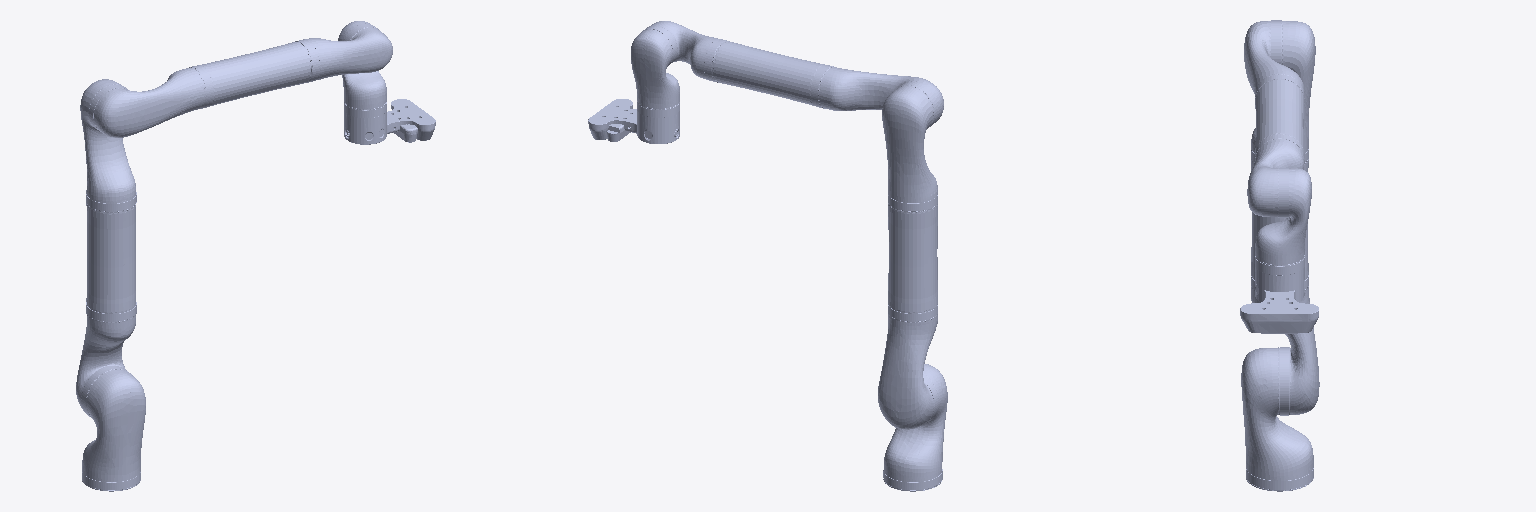
robot.urdf — tcb605lv:
<?xml version="1.0" encoding="utf-8"?>
<!-- This URDF was automatically created by SolidWorks to URDF Exporter! Originally created by Stephen Brawner (brawner@gmail.com) 
     Commit Version: 1.6.0-4-g7f85cfe  Build Version: 1.6.7995.38578
     For more information, please see http://wiki.ros.org/sw_urdf_exporter -->
<robot
  name="tcb605lv">
  <mujoco>
    <compiler
      meshdir="../meshes/"
      discardvisual="false"
    />
  </mujoco>
  <link
    name="link0">
    <inertial>
      <origin
        xyz="-0.00203916786698491 0.000208461233542917 0.0437970464318419"
        rpy="0 0 0" />
      <mass
        value="0.230943297728628" />
      <inertia
        ixx="0.000578857931988569"
        ixy="2.49644295159147E-06"
        ixz="-3.6276199422181E-06"
        iyy="0.000597326060992739"
        iyz="8.87603974516229E-07"
        izz="0.0006302688154674" />
    </inertial>
    <visual>
      <origin
        xyz="0 0 0"
        rpy="0 0 0" />
      <geometry>
        <mesh
          filename="package://tl_description/meshes/tcb605lv/link0.STL" />
      </geometry>
      <material
        name="">
        <color
          rgba="0.792156862745098 0.819607843137255 0.933333333333333 1" />
      </material>
    </visual>
    <collision>
      <origin
        xyz="0 0 0"
        rpy="0 0 0" />
      <geometry>
        <mesh
          filename="package://tl_description/meshes/tcb605lv/link0.STL" />
      </geometry>
    </collision>
  </link>
  <link
    name="link1">
    <inertial>
      <origin
        xyz="-2.82592835967246E-06 -0.0149440554612562 0.0760738628611228"
        rpy="0 0 0" />
      <mass
        value="0.188795049535535" />
      <inertia
        ixx="0.000644330974536614"
        ixy="5.5580416846699E-08"
        ixz="-5.40921744938001E-08"
        iyy="0.000669839544820847"
        iyz="0.000101917330586459"
        izz="0.000292784373513458" />
    </inertial>
    <visual>
      <origin
        xyz="0 0 0"
        rpy="0 0 0" />
      <geometry>
        <mesh
          filename="package://tl_description/meshes/tcb605lv/link1.STL" />
      </geometry>
      <material
        name="">
        <color
          rgba="0.792156862745098 0.819607843137255 0.933333333333333 1" />
      </material>
    </visual>
    <collision>
      <origin
        xyz="0 0 0"
        rpy="0 0 0" />
      <geometry>
        <mesh
          filename="package://tl_description/meshes/tcb605lv/link1.STL" />
      </geometry>
    </collision>
  </link>
  <joint
    name="joint1"
    type="revolute">
    <origin
      xyz="0 0 0.12215"
      rpy="0 0 0" />
    <parent
      link="link0" />
    <child
      link="link1" />
    <axis
      xyz="0 0 1" />
    <limit
      lower="-3.1226"
      upper="3.1226"
      effort="0"
      velocity="0" />
  </joint>
  <link
    name="link2">
    <inertial>
      <origin
        xyz="-1.94339017576278E-06 0.253141084131434 -0.00221954159481741"
        rpy="0 0 0" />
      <mass
        value="0.697362175861507" />
      <inertia
        ixx="0.0148340159046899"
        ixy="-5.08235530092336E-07"
        ixz="3.15104179556881E-08"
        iyy="0.000910925446251546"
        iyz="-0.000125255790475071"
        izz="0.0148212951328787" />
    </inertial>
    <visual>
      <origin
        xyz="0 0 0"
        rpy="0 0 0" />
      <geometry>
        <mesh
          filename="package://tl_description/meshes/tcb605lv/link2.STL" />
      </geometry>
      <material
        name="">
        <color
          rgba="0.792156862745098 0.819607843137255 0.933333333333333 1" />
      </material>
    </visual>
    <collision>
      <origin
        xyz="0 0 0"
        rpy="0 0 0" />
      <geometry>
        <mesh
          filename="package://tl_description/meshes/tcb605lv/link2.STL" />
      </geometry>
    </collision>
  </link>
  <joint
    name="joint2"
    type="revolute">
    <origin
      xyz="0 0.00665 0.14085"
      rpy="1.5708 0 0" />
    <parent
      link="link1" />
    <child
      link="link2" />
    <axis
      xyz="0 0 1" />
    <limit
      lower="-2.3562"
      upper="2.3562"
      effort="0"
      velocity="0" />
  </joint>
  <link
    name="link3">
    <inertial>
      <origin
        xyz="-4.72301629694805E-07 -0.190684771351565 0.00158653308007766"
        rpy="0 0 0" />
      <mass
        value="0.422517247895088" />
      <inertia
        ixx="0.00489098844498322"
        ixy="9.21912965391628E-08"
        ixz="-2.34885177144892E-09"
        iyy="0.000427800513977296"
        iyz="-0.000428033810758325"
        izz="0.00487247156937646" />
    </inertial>
    <visual>
      <origin
        xyz="0 0 0"
        rpy="0 0 0" />
      <geometry>
        <mesh
          filename="package://tl_description/meshes/tcb605lv/link3.STL" />
      </geometry>
      <material
        name="">
        <color
          rgba="0.792156862745098 0.819607843137255 0.933333333333333 1" />
      </material>
    </visual>
    <collision>
      <origin
        xyz="0 0 0"
        rpy="0 0 0" />
      <geometry>
        <mesh
          filename="package://tl_description/meshes/tcb605lv/link3.STL" />
      </geometry>
    </collision>
  </link>
  <joint
    name="joint3"
    type="revolute">
    <origin
      xyz="0 0.5195 0.0118"
      rpy="0 0 1.5708" />
    <parent
      link="link2" />
    <child
      link="link3" />
    <axis
      xyz="0 0 1" />
    <limit
      lower="-0.9520"
      upper="4.0666"
      effort="0"
      velocity="0" />
  </joint>
  <link
    name="link4">
    <inertial>
      <origin
        xyz="-5.09041704832569E-06 0.0131445030382286 0.06267452222222"
        rpy="0 0 0" />
      <mass
        value="0.0899815381835029" />
      <inertia
        ixx="0.000204808170493513"
        ixy="1.15809288352626E-08"
        ixz="4.0698625874143E-08"
        iyy="0.000207969515719354"
        iyz="-3.60476541258041E-05"
        izz="7.751883986058E-05" />
    </inertial>
    <visual>
      <origin
        xyz="0 0 0"
        rpy="0 0 0" />
      <geometry>
        <mesh
          filename="package://tl_description/meshes/tcb605lv/link4.STL" />
      </geometry>
      <material
        name="">
        <color
          rgba="0.792156862745098 0.819607843137255 0.933333333333333 1" />
      </material>
    </visual>
    <collision>
      <origin
        xyz="0 0 0"
        rpy="0 0 0" />
      <geometry>
        <mesh
          filename="package://tl_description/meshes/tcb605lv/link4.STL" />
      </geometry>
    </collision>
  </link>
  <joint
    name="joint4"
    type="revolute">
    <origin
      xyz="0 -0.36715 -0.00515"
      rpy="1.5708 0 0" />
    <parent
      link="link3" />
    <child
      link="link4" />
    <axis
      xyz="0 0 1" />
    <limit
      lower="-3.1226"
      upper="3.1226"
      effort="0"
      velocity="0" />
  </joint>
  <link
    name="link5">
    <inertial>
      <origin
        xyz="-0.039870713515424 1.29640334527448E-05 0.00873817260996291"
        rpy="0 0 0" />
      <mass
        value="0.0915267307351733" />
      <inertia
        ixx="8.0713088798166E-05"
        ixy="-3.62293548585109E-08"
        ixz="-3.1588735111645E-05"
        iyy="0.000167006031062903"
        iyz="-1.27090288820104E-08"
        izz="0.000170834795985533" />
    </inertial>
    <visual>
      <origin
        xyz="0 0 0"
        rpy="0 0 0" />
      <geometry>
        <mesh
          filename="package://tl_description/meshes/tcb605lv/link5.STL" />
      </geometry>
      <material
        name="">
        <color
          rgba="0.792156862745098 0.819607843137255 0.933333333333333 1" />
      </material>
    </visual>
    <collision>
      <origin
        xyz="0 0 0"
        rpy="0 0 0" />
      <geometry>
        <mesh
          filename="package://tl_description/meshes/tcb605lv/link5.STL" />
      </geometry>
    </collision>
  </link>
  <joint
    name="joint5"
    type="revolute">
    <origin
      xyz="0 -0.00615 0.11335"
      rpy="1.5708 0 0" />
    <parent
      link="link4" />
    <child
      link="link5" />
    <axis
      xyz="0 0 1" />
    <limit
      lower="-3.8921"
      upper="0.7505"
      effort="0"
      velocity="0" />
  </joint>
  <link
    name="link6">
    <inertial>
      <origin
        xyz="0.0456847640482927 -8.93653981464731E-05 -0.013851734676169"
        rpy="0 0 0" />
      <mass
        value="0.172279547491106" />
      <inertia
        ixx="0.000136996299151724"
        ixy="2.46315851520808E-06"
        ixz="-6.06548296718063E-05"
        iyy="0.000398400904894817"
        iyz="1.44296727106075E-07"
        izz="0.000453491802678393" />
    </inertial>
    <visual>
      <origin
        xyz="0 0 0"
        rpy="0 0 0" />
      <geometry>
        <mesh
          filename="package://tl_description/meshes/tcb605lv/link6.STL" />
      </geometry>
      <material
        name="">
        <color
          rgba="0.792156862745098 0.819607843137255 0.933333333333333 1" />
      </material>
    </visual>
    <collision>
      <origin
        xyz="0 0 0"
        rpy="0 0 0" />
      <geometry>
        <mesh
          filename="package://tl_description/meshes/tcb605lv/link6.STL" />
      </geometry>
    </collision>
  </link>
  <joint
    name="joint6"
    type="revolute">
    <origin
      xyz="-0.1615 0 -0.006025"
      rpy="-1.5708 -0.0013814 1.5708" />
    <parent
      link="link5" />
    <child
      link="link6" />
    <axis
      xyz="0 0 1" />
    <limit
      lower="-3.1226"
      upper="3.1226"
      effort="0"
      velocity="0" />
  </joint>
  <link
    name="camera_link">
    <inertial>
      <origin
        xyz="0.00587064733882436 0.00117311941810132 0.0124843774752632"
        rpy="0 0 0" />
      <mass
        value="0.0471700197811821" />
      <inertia
        ixx="2.87281832110709E-05"
        ixy="4.20817635729171E-07"
        ixz="-4.33349077164788E-09"
        iyy="4.39204771944353E-06"
        iyz="-5.78221440988259E-10"
        izz="2.89731881794558E-05" />
    </inertial>
    <visual>
      <origin
        xyz="0 0 0"
        rpy="0 0 0" />
      <geometry>
        <mesh
          filename="package://tl_description/meshes/tcb605lv/camera_link.STL" />
      </geometry>
      <material
        name="">
        <color
          rgba="0.792156862745098 0.819607843137255 0.933333333333333 1" />
      </material>
    </visual>
    <collision>
      <origin
        xyz="0 0 0"
        rpy="0 0 0" />
      <geometry>
        <mesh
          filename="package://tl_description/meshes/tcb605lv/camera_link.STL" />
      </geometry>
    </collision>
  </link>
  <joint
    name="camera_joint"
    type="fixed">
    <origin
      xyz="0.078 0.00023277 -0.0087187"
      rpy="0.0013814 -1.5708 0" />
    <parent
      link="link6" />
    <child
      link="camera_link" />
    <axis
      xyz="0 0 0" />
  </joint>
</robot>

--- What the picture shows (computed from the rendered views, not written in the file) ---
3 views of the same robot in one strip: view 1: azimuth 30°, elevation 25°; view 2: azimuth 150°, elevation 25°; view 3: azimuth 270°, elevation 25° (orthographic).
Robot: tcb605lv — 8 links, 7 joints (6 revolute, 1 fixed); root link link0; default pose: every joint at zero.
Visible links, largest first — view 1: link2, link3, link1, link4, link6, link5; view 2: link2, link3, link1, link5, link6, link4; view 3: link1, link2, link3, link6, link5, link4.
Boxes of the visible links, x1,y1,x2,y2 form: link2: (76, 79, 136, 417); link3: (88, 42, 310, 137); link1: (82, 369, 145, 491); link4: (295, 27, 392, 82); link6: (344, 99, 435, 144); link5: (338, 21, 386, 108); link2: (878, 86, 938, 429); link3: (713, 41, 943, 126); link1: (883, 364, 947, 491); link5: (631, 25, 679, 108); link6: (588, 99, 679, 143); link4: (651, 21, 726, 82); link1: (1241, 348, 1313, 491); link2: (1251, 21, 1319, 415); link3: (1244, 20, 1304, 151); link6: (1240, 255, 1318, 333); link5: (1255, 168, 1311, 264); link4: (1247, 134, 1304, 216).
Size in the robot's own frame: 0.6369 by 0.1124 by 0.7109 metres.
Meshes: 8 distinct files referenced, 7 mesh visuals loaded (7 binary STL); not drawn: 1 (reference not matched to a file when rendering).
